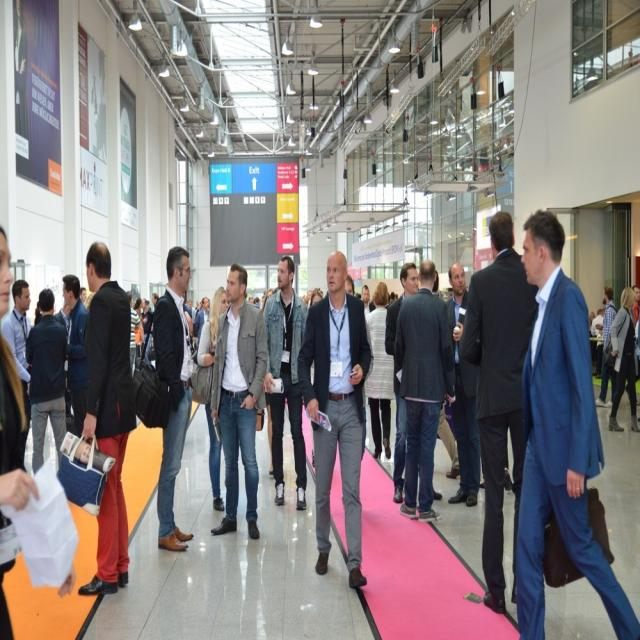body: (512, 206, 639, 639), (458, 210, 540, 614), (0, 223, 79, 639), (295, 247, 374, 593), (76, 240, 138, 596), (208, 260, 270, 543), (392, 257, 456, 524), (258, 252, 315, 510), (150, 243, 194, 552), (411, 266, 457, 483), (190, 284, 232, 513), (445, 260, 482, 508), (24, 285, 69, 476), (385, 261, 419, 502), (1, 278, 34, 474), (366, 279, 396, 462), (61, 272, 91, 440), (607, 285, 640, 436), (344, 272, 366, 458), (594, 284, 618, 409), (54, 298, 76, 434), (88, 38, 109, 170), (132, 290, 161, 385), (13, 0, 29, 150), (478, 426, 512, 496), (623, 283, 640, 410), (125, 290, 146, 380), (181, 288, 202, 364), (479, 135, 513, 177), (244, 285, 280, 316), (590, 307, 605, 380), (193, 296, 211, 348), (437, 282, 469, 304), (299, 287, 326, 313), (635, 302, 640, 424), (359, 284, 376, 318), (269, 384, 274, 484), (309, 422, 318, 472), (79, 286, 93, 309), (284, 393, 304, 408), (34, 298, 43, 328), (601, 295, 607, 331), (388, 291, 400, 308), (589, 310, 596, 333), (207, 295, 212, 308)
